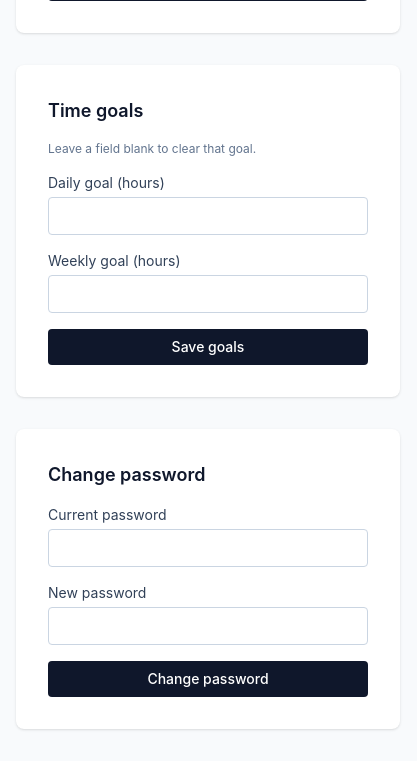
Test case: DashboardPage › changes the password successfully
(page scrolled)
Type "oldPassword1" into the password field labelled "Current password" at (208, 548), box [48,529,368,567]
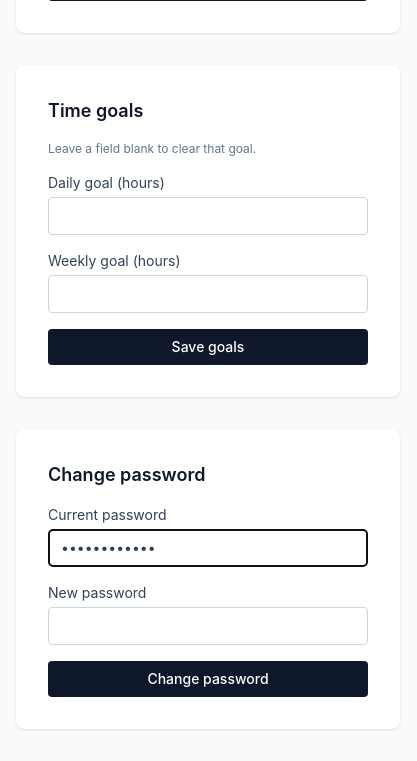
Type "newPassword1" into the password field labelled "New password" at (208, 626), box [48,607,368,645]
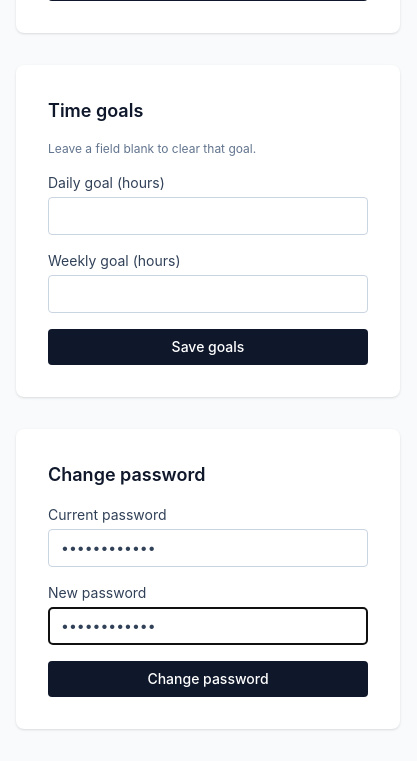
Click the button "Change password" at (208, 679), box [48,661,368,697]
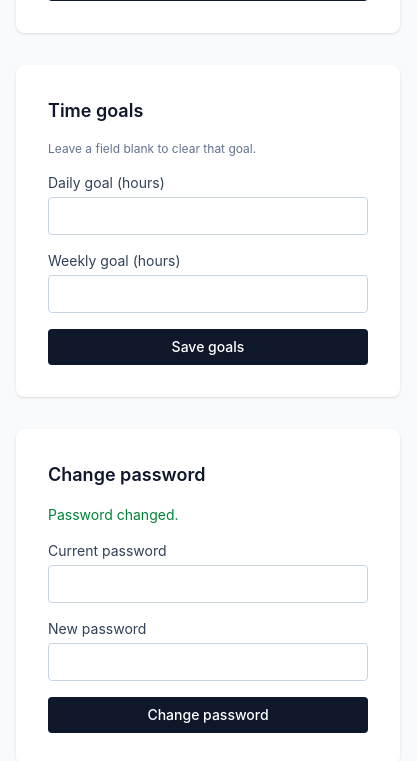
Result: the text "Password changed." is shown at [48,506,178,523]
